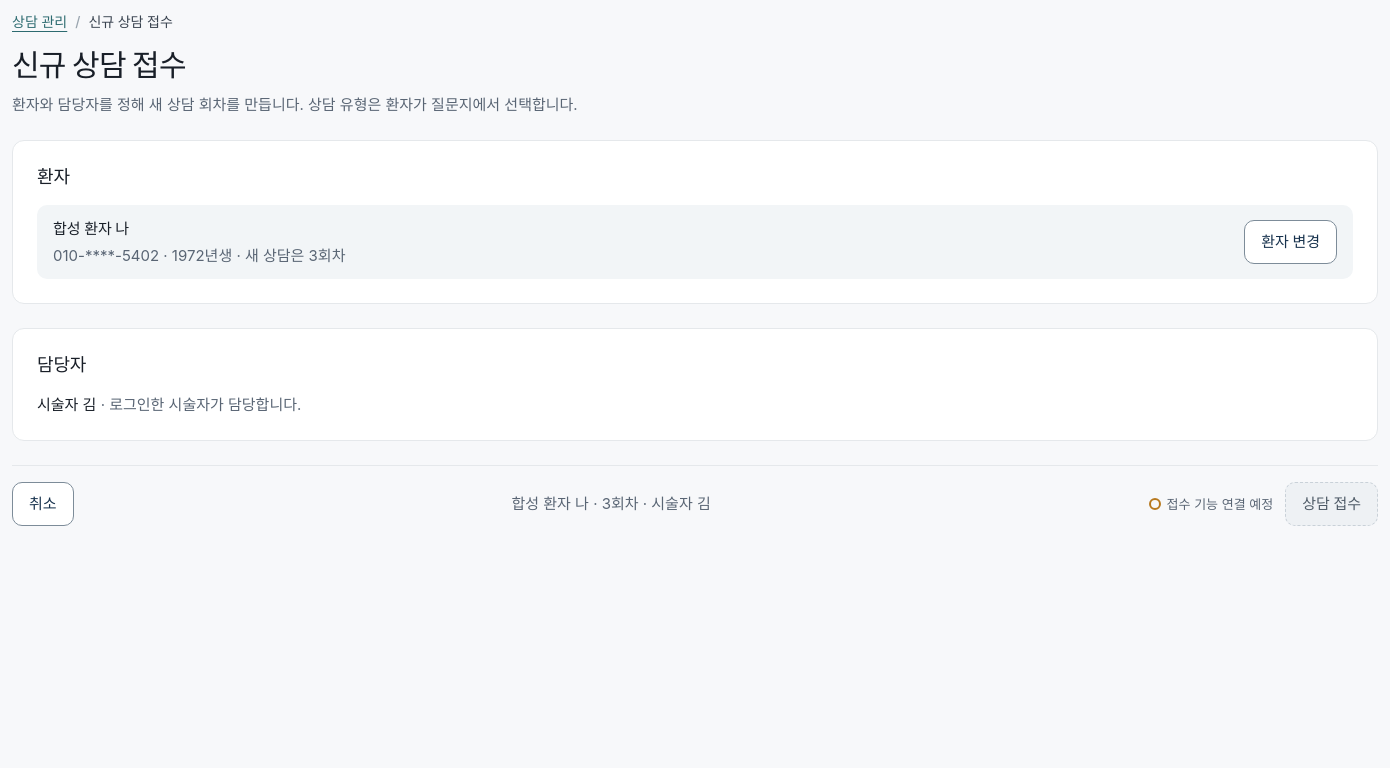
it: T04B registration, intake, and admin flows › searches patients in intake and lets a preselected patient be changed
The image size is (1390, 768).
Click the button "환자 변경": (1291, 242) [1244,220,1337,264]
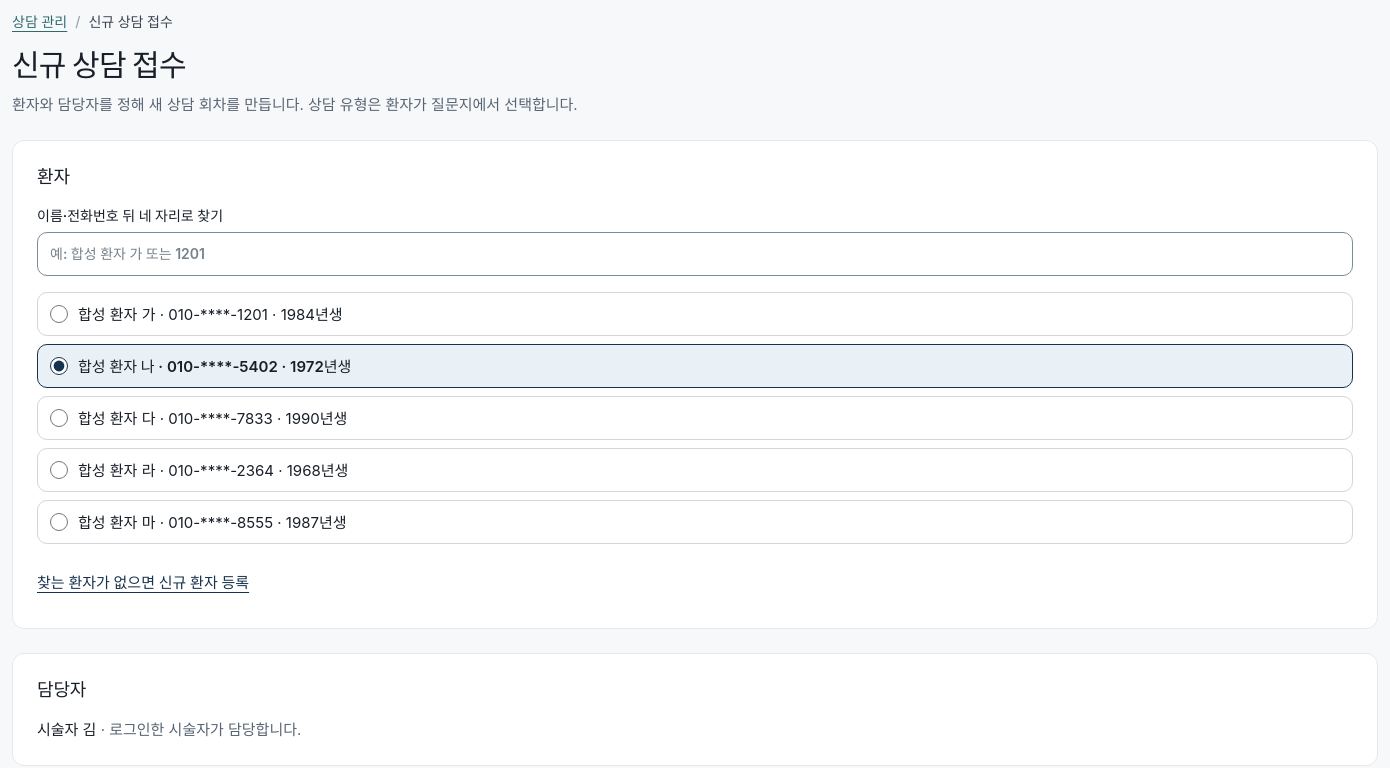
In the search field labelled "이름·전화번호 뒤 네 자리로 찾기": (695, 254) [37,232,1353,276], type "7833"
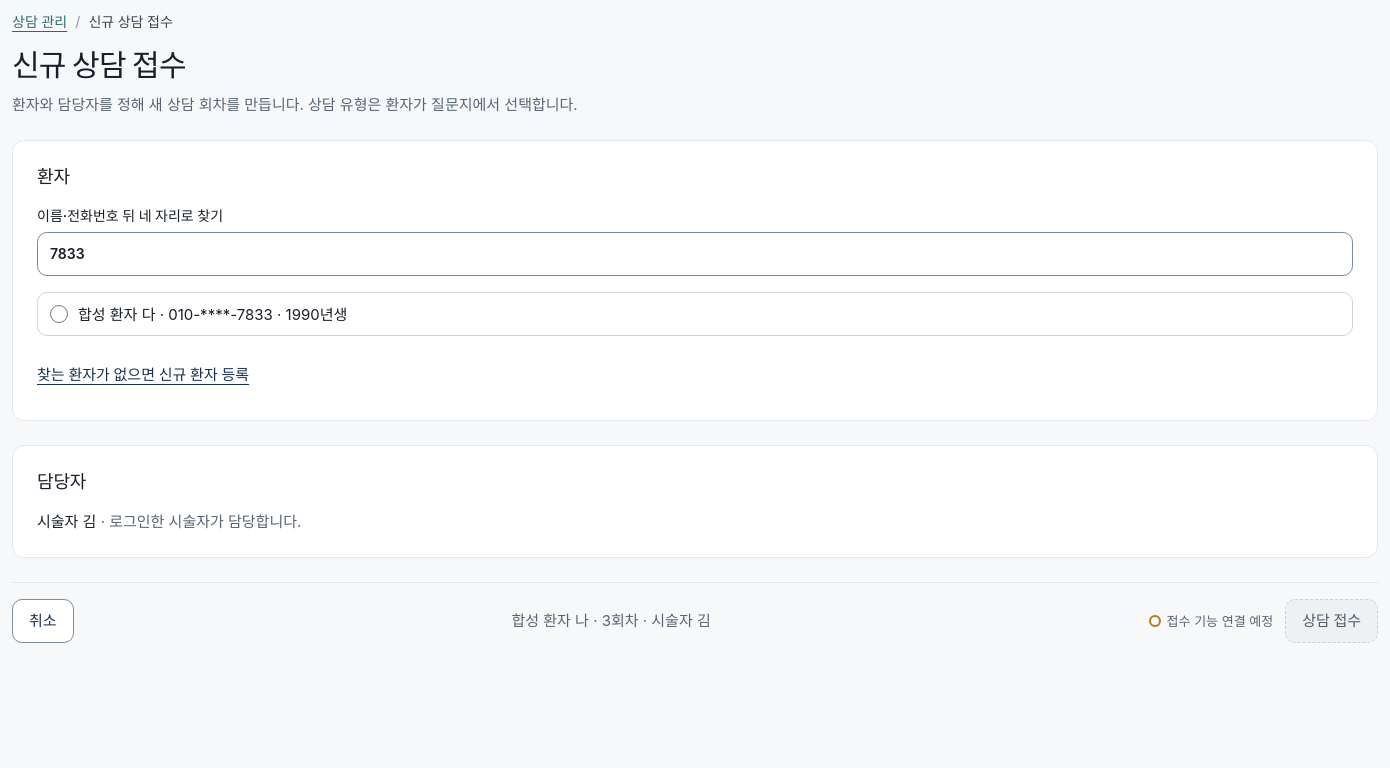
Expected: the link to "/patients/new?from=intake" is shown, [37,365,249,384]
Expected: the number of radio buttons named "intake-patient" is 1
Click the radio button named "intake-patient": (59, 314) [50,305,68,323]
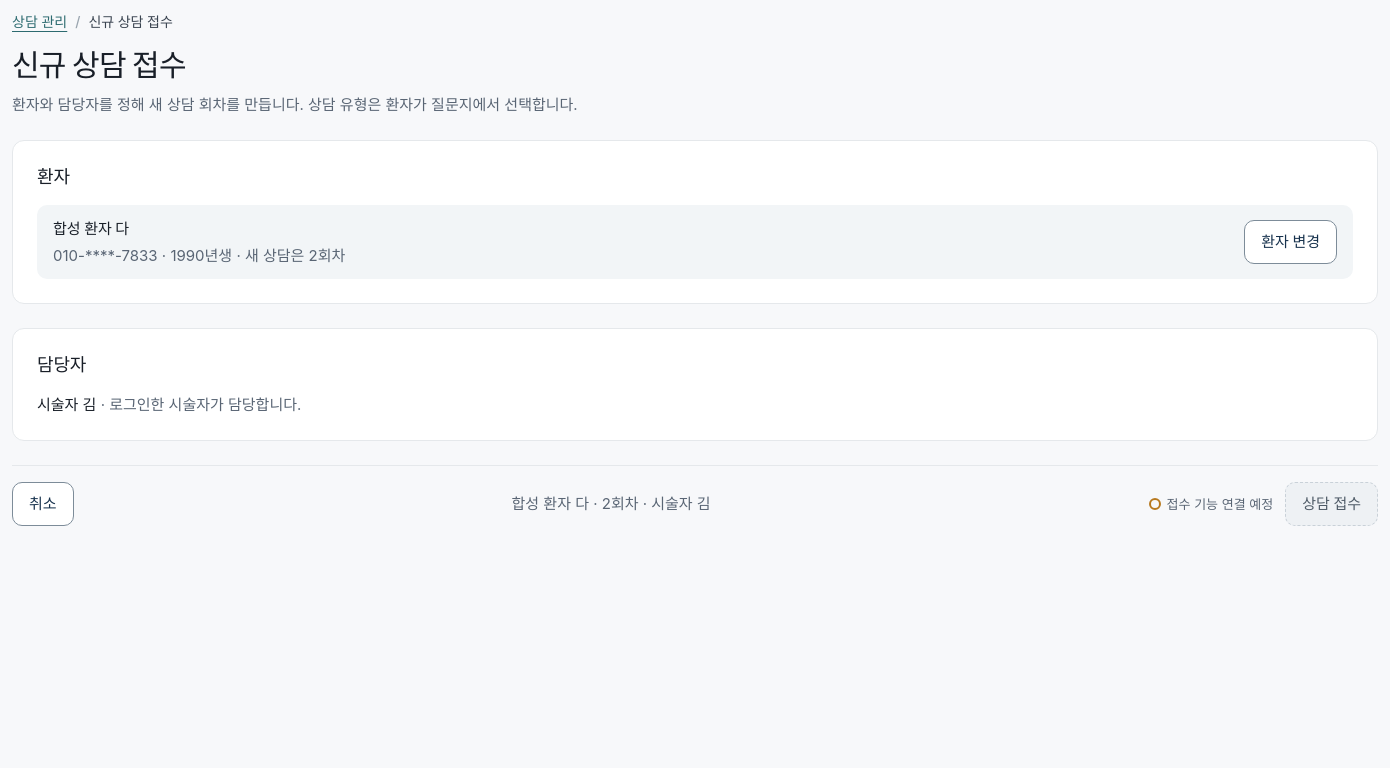
Expected: the element with class "candidate-row" shows "합성 환자 다", [53,219,129,238]
